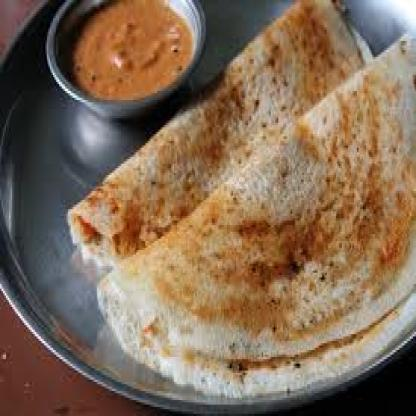dosa: (97, 31, 416, 397), (68, 0, 365, 269)
